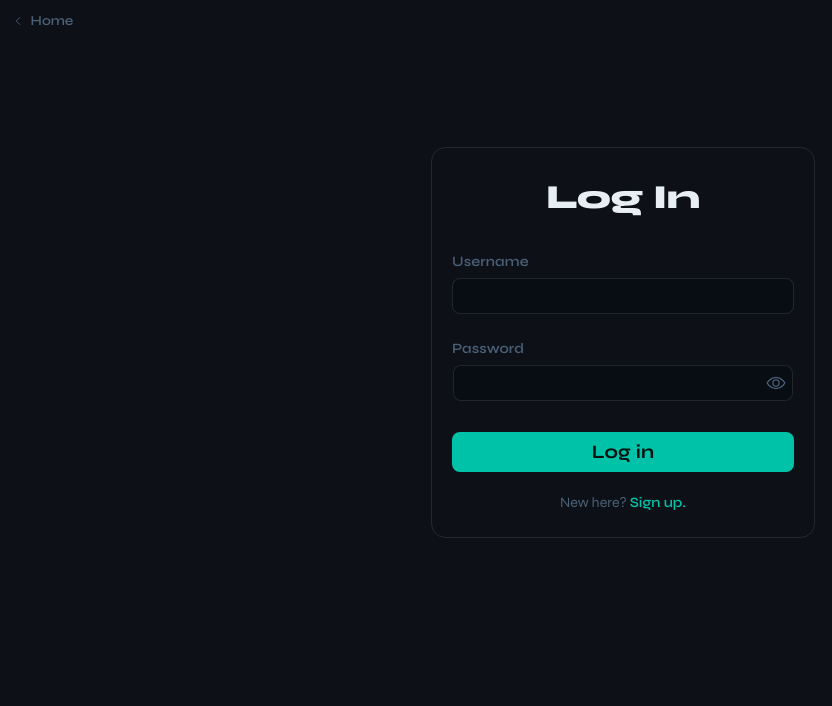
Test suite for the login form › Can navigate to the signup page via the form
Expected: the form is shown, [431, 147, 815, 538]
Click the link "Sign up.". click: coordinates (658, 502)
box: [630, 494, 686, 511]
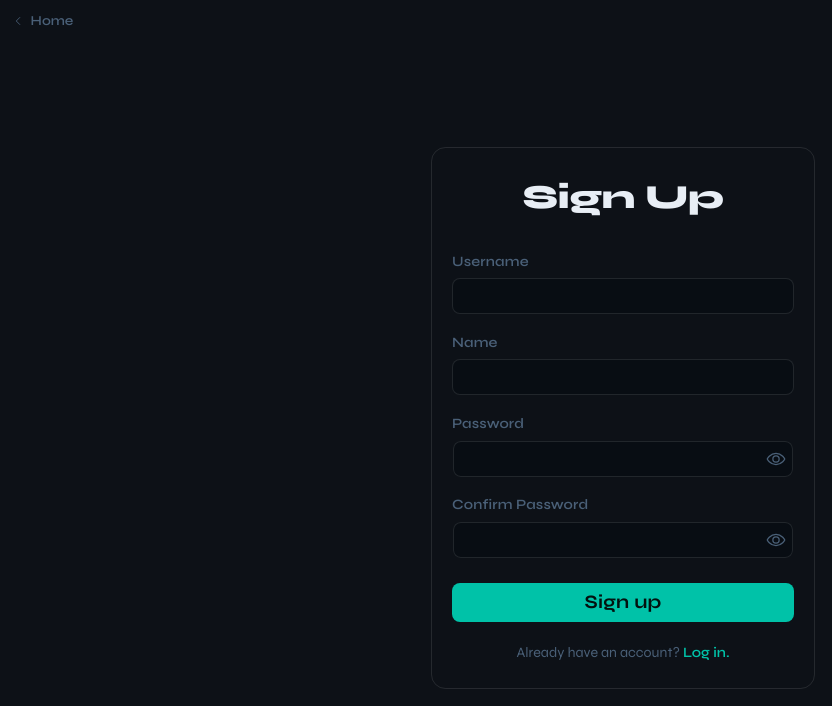
Result: the heading "Sign Up" is shown at [522, 177, 724, 217]
